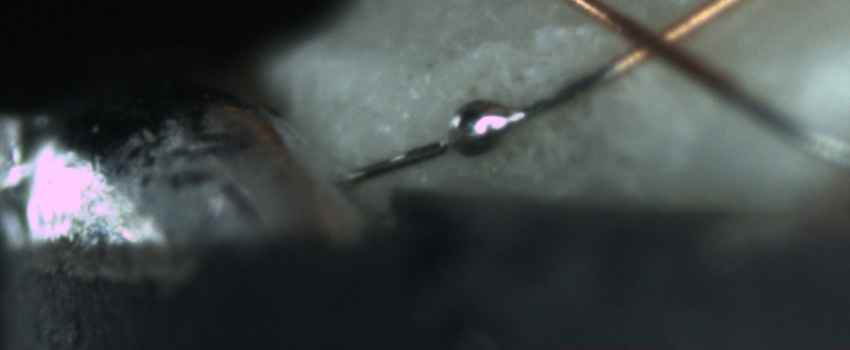CL: (611, 5, 705, 70)
TB: (440, 96, 516, 159)
TS: (352, 64, 618, 179)
TTCW: (336, 49, 639, 194)
